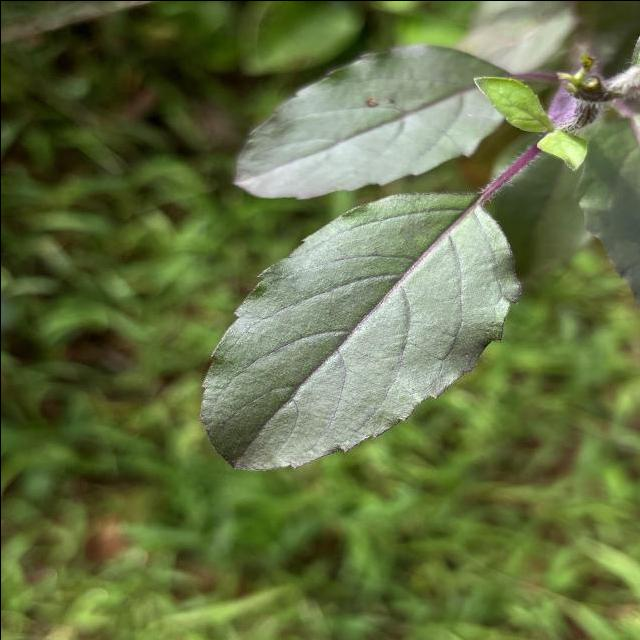Ocimum tenuiflorum: (193, 187, 528, 473)
